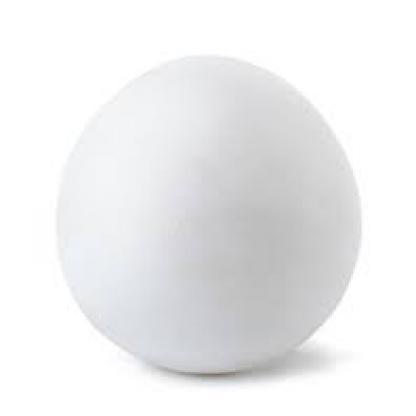egg: (49, 51, 366, 376)
